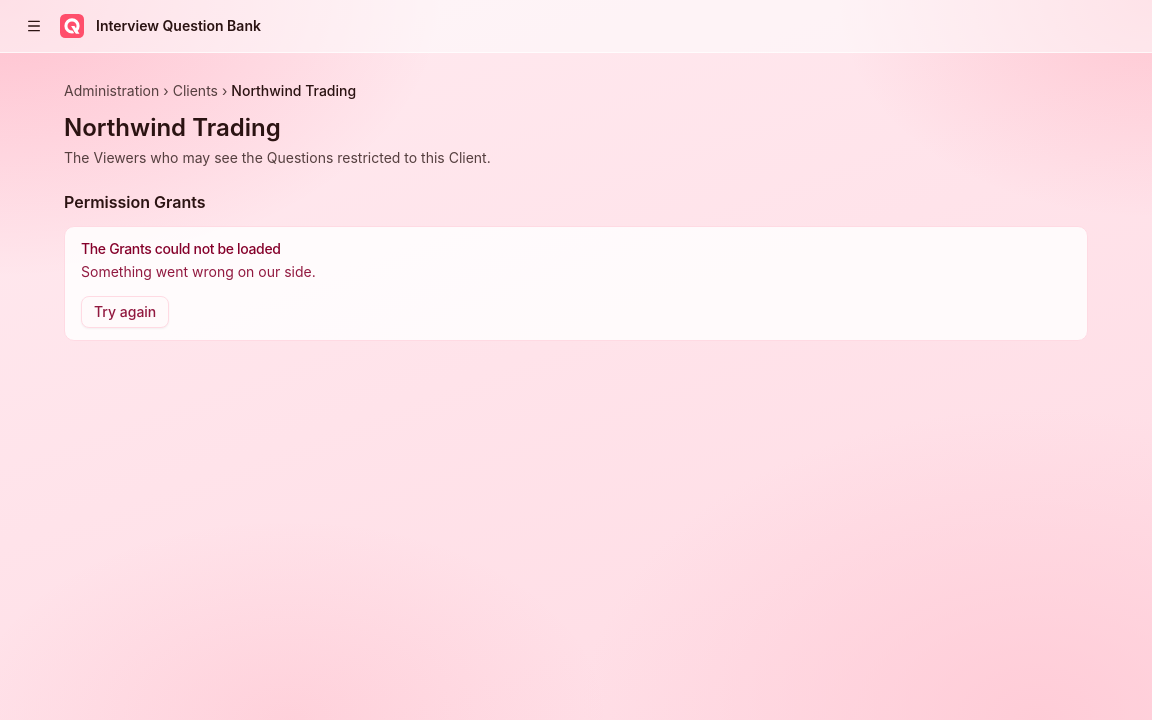
it: the Clients on the administration console › reports a Client's Grants failing, and asks again
The image size is (1152, 720).
Expected: the text "Something went wrong on our side." is shown, [81,261,316,284]
Click the button "Try again" at [125, 312], box [81,296,169,328]
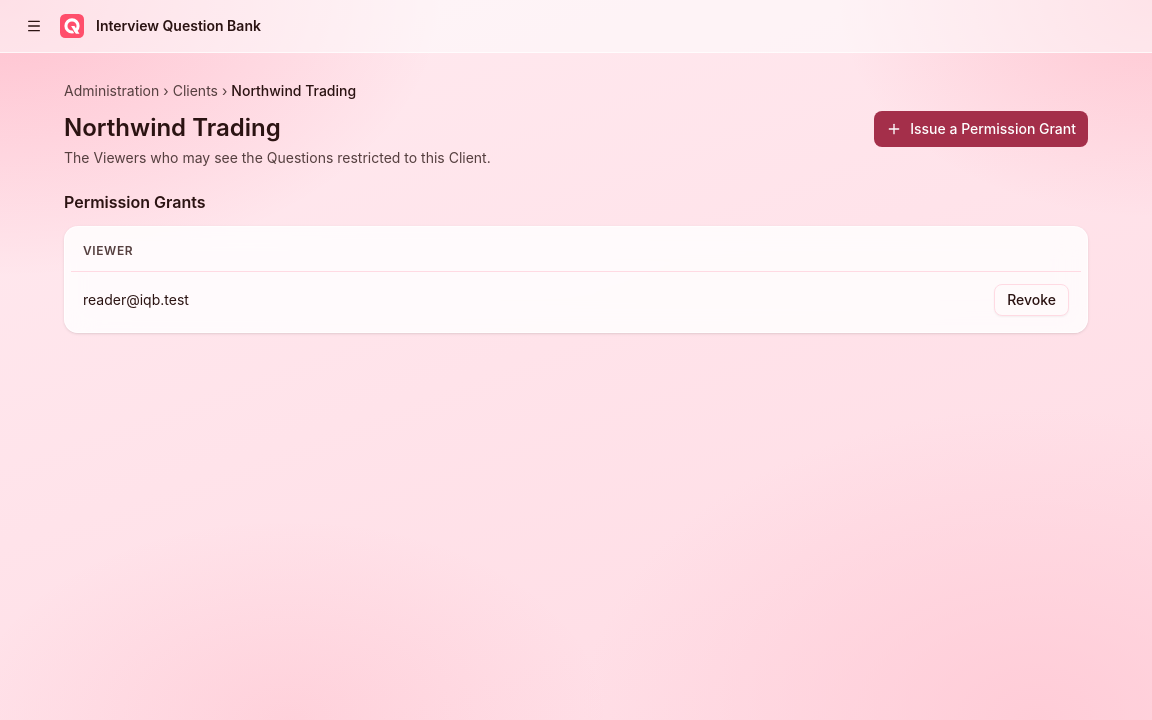
Expected: the text "reader@iqb.test" is shown, [71,272,645,328]
